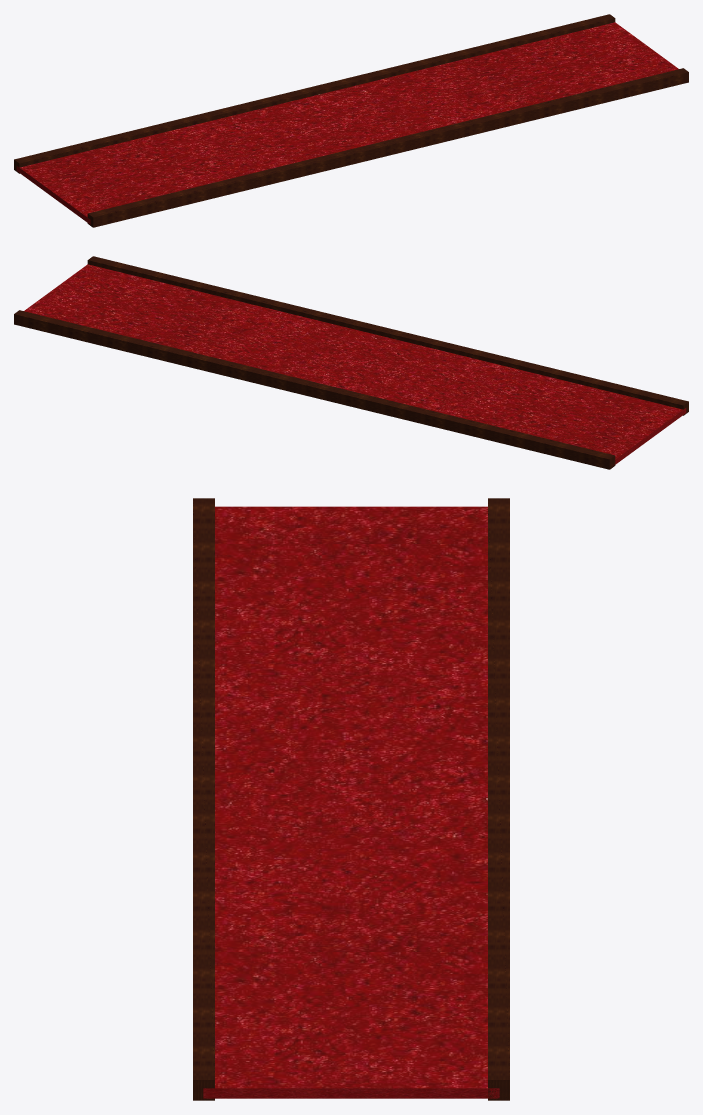
File: RedCarpet.fbx
3 renders of one model, top to bottom at view 1: azimuth 30°, elevation 25°; view 2: azimuth 150°, elevation 25°; view 3: azimuth 270°, elevation 25°, orthographic. The views are drawn at different scales.
Parts seen in each view (by area): view 1: Cube, Cube.002, Cube.001; view 2: Cube, Cube.001, Cube.002; view 3: Cube, Cube.001, Cube.002.
Boxes of the visible parts, left/top/right/bottom form: Cube: left=16, top=22, right=678, bottom=224; Cube.002: left=87, top=68, right=688, bottom=227; Cube.001: left=14, top=14, right=615, bottom=173; Cube: left=24, top=264, right=686, bottom=465; Cube.001: left=14, top=310, right=615, bottom=469; Cube.002: left=87, top=256, right=688, bottom=415; Cube: left=203, top=506, right=499, bottom=1098; Cube.001: left=488, top=498, right=509, bottom=1100; Cube.002: left=193, top=498, right=214, bottom=1100.
Bounding box in the file's own units: 2231 × 37.03 × 514.
